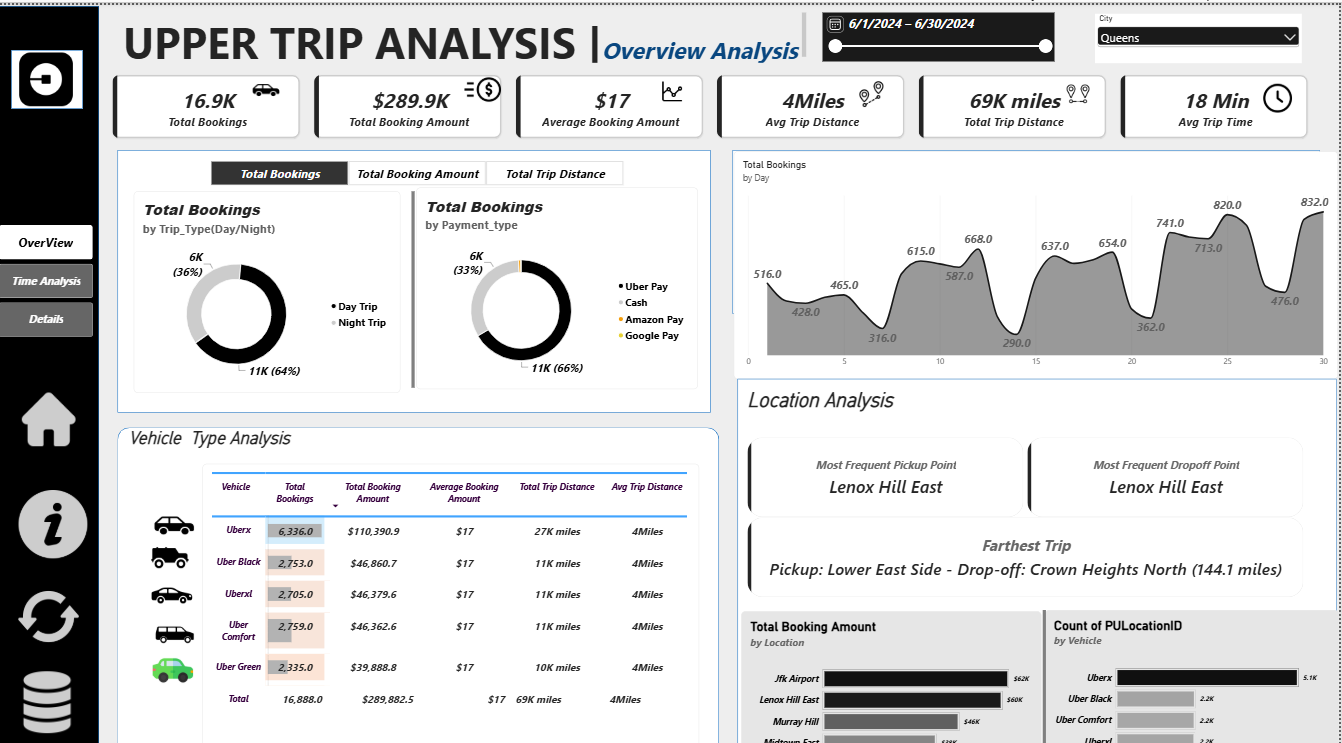

What the dashboard file says about the page in this screenshot:
{"tool":"powerbi","page":{"name":"OverView","canvas":[2500,1900],"ordinal":0},"visuals":[{"type":"cardVisual","fields":{"Data":["Calender Table.Total Bookings","Calender Table.Total Booking Amount","Calender Table.Average Booking Amount","Calender Table.Avg Trip Distance","Calender Table.Total Trip Distance","Calender Table.Avg Trip Time"]},"box":[196.4,107.1,2275,164.3],"z":0},{"type":"shape","box":[226.9,269.2,1103.8,488.5],"z":1000},{"type":"shape","box":[0,2.5,193.3,1898.3],"z":2000},{"type":"shape","box":[228.6,785.7,1119.2,738.5],"z":3000},{"type":"textbox","box":[238.3,13.3,1271.7,93.3],"z":4000},{"type":"image","box":[1595,142.5,73.3,48.3],"z":5000},{"type":"image","box":[1215,140,92.5,42.5],"z":6000},{"type":"image","box":[2342.9,146.4,89.3,53.6],"z":7000},{"type":"image","box":[1970,145,90,42.5],"z":8000},{"type":"image","box":[755,122.5,303.6,67.9],"z":9000},{"type":"image","box":[442.5,132.5,124.4,51.2],"z":10000},{"type":"slicer","fields":{"Values":[" Dynamic Measure 2. Dynamic Measure"]},"box":[380.8,288.5,806.2,48.8],"z":11000},{"type":"donutChart","fields":{"Category":["Trip Details.Payment_type"],"Y":["Calender Table.Total Bookings"]},"box":[784.6,338.5,523.8,375],"z":12000},{"type":"donutChart","fields":{"Category":["Trip Details.Trip_Type(Day/Night)"],"Y":["Calender Table.Total Bookings"]},"box":[257.7,346.2,496.2,375],"z":13000},{"type":"pivotTable","fields":{"Rows":["Trip Details.Vehicle"],"Values":["Calender Table.Total Bookings","Calender Table.Total Booking Amount","Calender Table.Average Booking Amount","Calender Table.Total Trip Distance","Calender Table.Avg Trip Distance"]},"box":[385.7,853.6,924.3,607.1],"z":14000},{"type":"image","box":[277.5,1055.7,104.3,85.7],"z":15000},{"type":"image","box":[257.5,1200,145.7,75.7],"z":16000},{"type":"image","box":[242.5,992.5,167.1,70],"z":17000},{"type":"image","box":[265,930,137.1,75.7],"z":18000},{"type":"image","box":[285,1131.4,95.7,78.6],"z":19000},{"type":"textbox","box":[874.3,1807.1,457.1,91.4],"z":20000},{"type":"textbox","box":[250,785.7,321.4,60.7],"z":21000},{"type":"shape","box":[1373.2,270.7,1092.7,304.9],"z":22000},{"type":"areaChart","fields":{"Category":["Calender Table.Date.Variation.Date Hierarchy.Day"],"Y":["Calender Table.Total Bookings"]},"box":[1373.8,271.4,1123.8,423.8],"z":23000},{"type":"shape","box":[1382.1,696.4,1114.6,817.1],"z":24000},{"type":"barChart","fields":{"Category":["Location Table.Location"],"Y":["Calender Table.Total Booking Amount"]},"box":[1389.3,1128.6,558.5,365.9],"z":25000},{"type":"cardVisual","fields":{"Data":["Calender Table.Most Frequent Pickup Point","Calender Table.Most Frequent Dropoff Point"]},"box":[1400,803.6,1034.1,148.8],"z":26000},{"type":"cardVisual","fields":{"Data":["Calender Table.Farthest Trip"]},"box":[1400,953.6,1034.1,148.8],"z":27000},{"type":"barChart","fields":{"Category":["Trip Details.Vehicle"],"Y":["CountNonNull(Trip Details.PULocationID)"]},"box":[1953.6,1125,546.3,365.9],"z":28000},{"type":"shape","box":[730.8,346.2,95.1,365.9],"z":29000},{"type":"shape","box":[1903.6,1125,95.1,365.9],"z":30000},{"type":"textbox","box":[1400,710.7,353.6,67.9],"z":31000},{"type":"slicer","fields":{"Values":["Calender Table.Date"]},"box":[1540.5,14.3,430.8,89.7],"z":32000},{"type":"slicer","fields":{"Values":["City.City"]},"box":[2046.2,15.4,384.6,92.3],"z":33000},{"type":"image","box":[21.4,1240.5,152.5,115],"z":34000},{"type":"image","box":[23.1,1082.1,152.5,112.5],"z":35000},{"type":"image","box":[30.8,902.6,155,127.5],"z":36000},{"type":"image","box":[16.7,721.4,167.5,100],"z":37000},{"type":"image","box":[0,60,126.7,88.9],"z":38000},{"type":"pageNavigator","box":[7.1,409.5,175.6,208.9],"z":39000},{"type":"shape","box":[31,83.3,133.3,109.5],"z":40000},{"type":"image","box":[45.2,88.1,102.4,100],"z":40001}]}

Visuals, with their boxes on the page's 2500x1900 design canvas (x1, y1, x2, y2). These are canvas units, not pixel positions in the 1342x743 screenshot, which may show the page scaled, cropped or inside an application window:
cardVisual - Calender Table.Total Bookings x Calender Table.Total Booking Amount: detection(196, 107, 2471, 271)
shape: detection(227, 269, 1331, 758)
shape: detection(0, 2, 193, 1901)
shape: detection(229, 786, 1348, 1524)
textbox: detection(238, 13, 1510, 107)
image: detection(1595, 142, 1668, 191)
image: detection(1215, 140, 1308, 182)
image: detection(2343, 146, 2432, 200)
image: detection(1970, 145, 2060, 188)
image: detection(755, 122, 1059, 190)
image: detection(442, 132, 567, 184)
slicer -  Dynamic Measure 2. Dynamic Measure: detection(381, 288, 1187, 337)
donutChart - Trip Details.Payment_type x Calender Table.Total Bookings: detection(785, 338, 1308, 714)
donutChart - Trip Details.Trip_Type(Day/Night) x Calender Table.Total Bookings: detection(258, 346, 754, 721)
pivotTable - Trip Details.Vehicle x Calender Table.Total Bookings: detection(386, 854, 1310, 1461)
image: detection(278, 1056, 382, 1141)
image: detection(258, 1200, 403, 1276)
image: detection(242, 992, 410, 1062)
image: detection(265, 930, 402, 1006)
image: detection(285, 1131, 381, 1210)
textbox: detection(874, 1807, 1331, 1898)
textbox: detection(250, 786, 571, 846)
shape: detection(1373, 271, 2466, 576)
areaChart - Calender Table.Date.Variation.Date Hierarchy.Day x Calender Table.Total Bookings: detection(1374, 271, 2498, 695)
shape: detection(1382, 696, 2497, 1514)
barChart - Location Table.Location x Calender Table.Total Booking Amount: detection(1389, 1129, 1948, 1494)
cardVisual - Calender Table.Most Frequent Pickup Point x Calender Table.Most Frequent Dropoff Point: detection(1400, 804, 2434, 952)
cardVisual - Calender Table.Farthest Trip: detection(1400, 954, 2434, 1102)
barChart - Trip Details.Vehicle x CountNonNull(Trip Details.PULocationID): detection(1954, 1125, 2500, 1491)
shape: detection(731, 346, 826, 712)
shape: detection(1904, 1125, 1999, 1491)
textbox: detection(1400, 711, 1754, 779)
slicer - Calender Table.Date: detection(1540, 14, 1971, 104)
slicer - City.City: detection(2046, 15, 2431, 108)
image: detection(21, 1240, 174, 1356)
image: detection(23, 1082, 176, 1195)
image: detection(31, 903, 186, 1030)
image: detection(17, 721, 184, 821)
image: detection(0, 60, 127, 149)
pageNavigator: detection(7, 410, 183, 618)
shape: detection(31, 83, 164, 193)
image: detection(45, 88, 148, 188)
